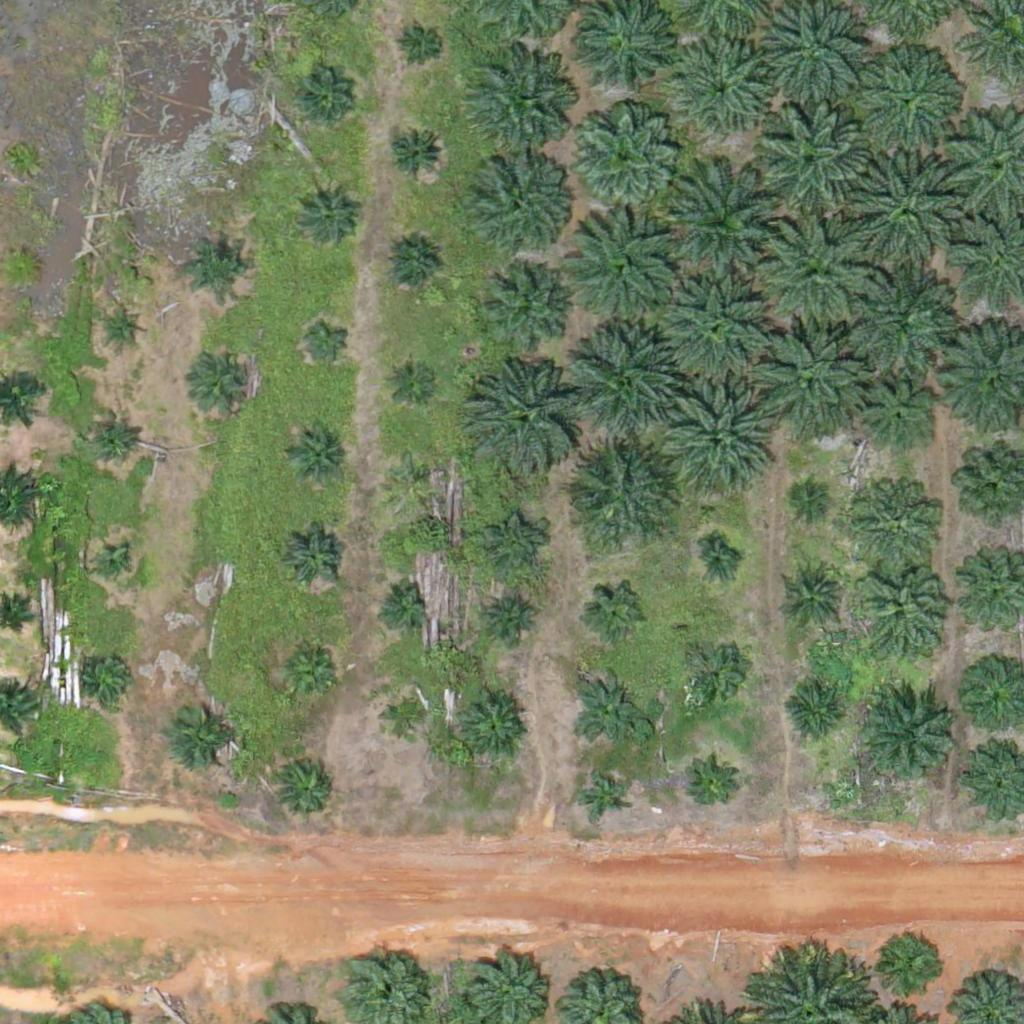Kelapa_Sawit: (664, 162, 789, 288), (462, 356, 587, 482), (659, 270, 772, 384), (569, 215, 682, 329), (567, 100, 680, 214), (850, 155, 963, 268), (836, 256, 949, 369), (657, 379, 770, 492), (570, 321, 683, 434), (561, 436, 674, 549), (750, 316, 862, 430), (464, 51, 576, 165), (761, 214, 873, 327), (756, 104, 868, 217), (855, 686, 955, 787), (858, 52, 958, 153), (470, 149, 570, 250), (674, 39, 774, 139), (850, 477, 938, 565), (858, 571, 946, 659), (480, 266, 568, 354), (166, 698, 241, 774), (856, 380, 931, 456), (455, 688, 530, 763), (571, 670, 646, 745), (196, 349, 259, 412), (185, 233, 248, 296), (294, 72, 357, 135), (283, 421, 346, 484), (283, 526, 346, 589), (960, 667, 1023, 730), (276, 758, 339, 821), (784, 685, 847, 748), (881, 932, 944, 995), (679, 640, 742, 703), (276, 640, 339, 703), (384, 122, 447, 185), (295, 183, 357, 246), (483, 513, 545, 576), (587, 582, 649, 645), (381, 234, 443, 297), (685, 762, 735, 813), (489, 591, 539, 642), (578, 771, 628, 822), (387, 351, 437, 402), (386, 448, 436, 499), (376, 577, 426, 628), (302, 313, 352, 364), (86, 652, 136, 702), (787, 570, 837, 620), (380, 693, 430, 743), (88, 411, 138, 461), (396, 21, 446, 71), (795, 481, 833, 519), (105, 309, 143, 347), (95, 547, 133, 585), (2, 249, 40, 287), (700, 543, 737, 581)
